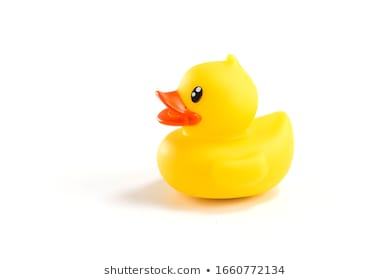duck: (145, 37, 318, 212)
